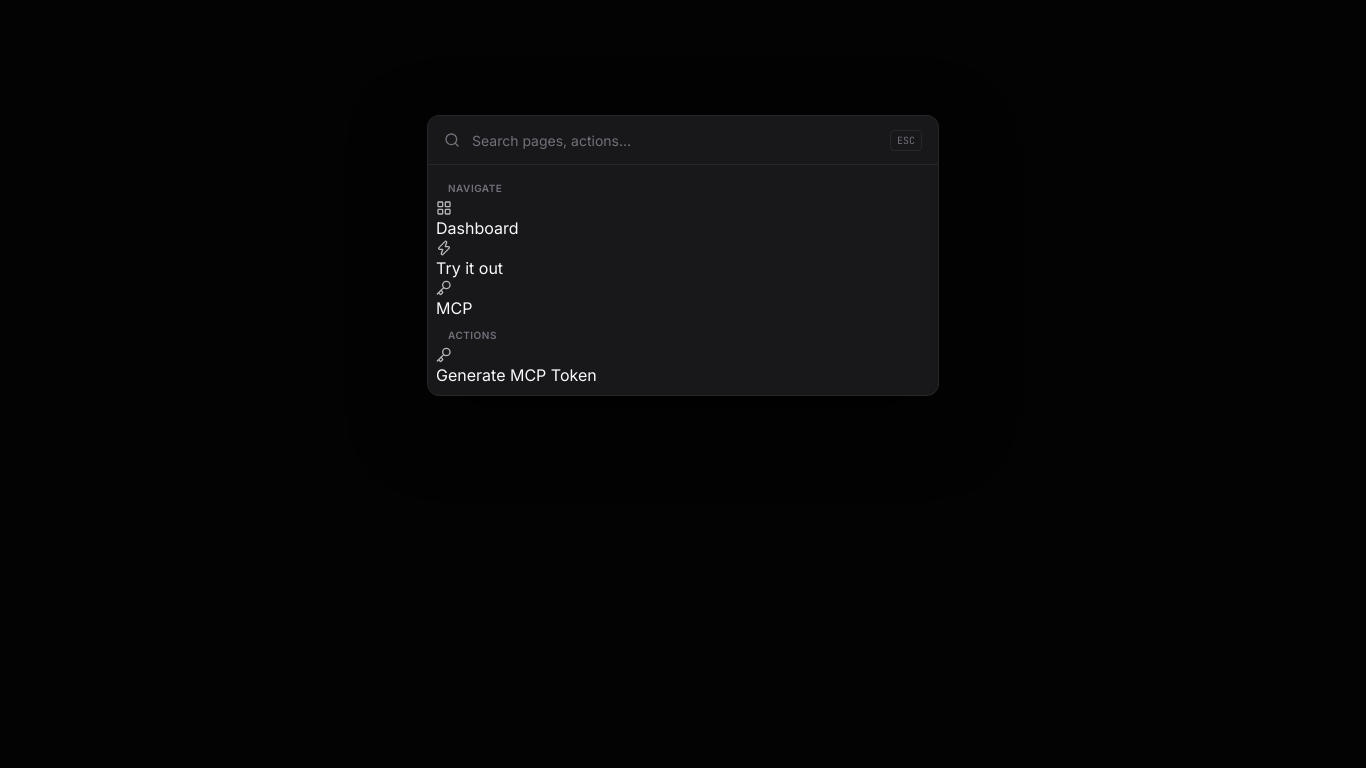
Test: CommandPalette › typing a query filters both groups by substring match on the label
The width and height of the screenshot is (1366, 768).
Type "dash" into the field with placeholder "Search pages, actions…".
click(675, 140); type("dash")  # box [472, 116, 878, 164]
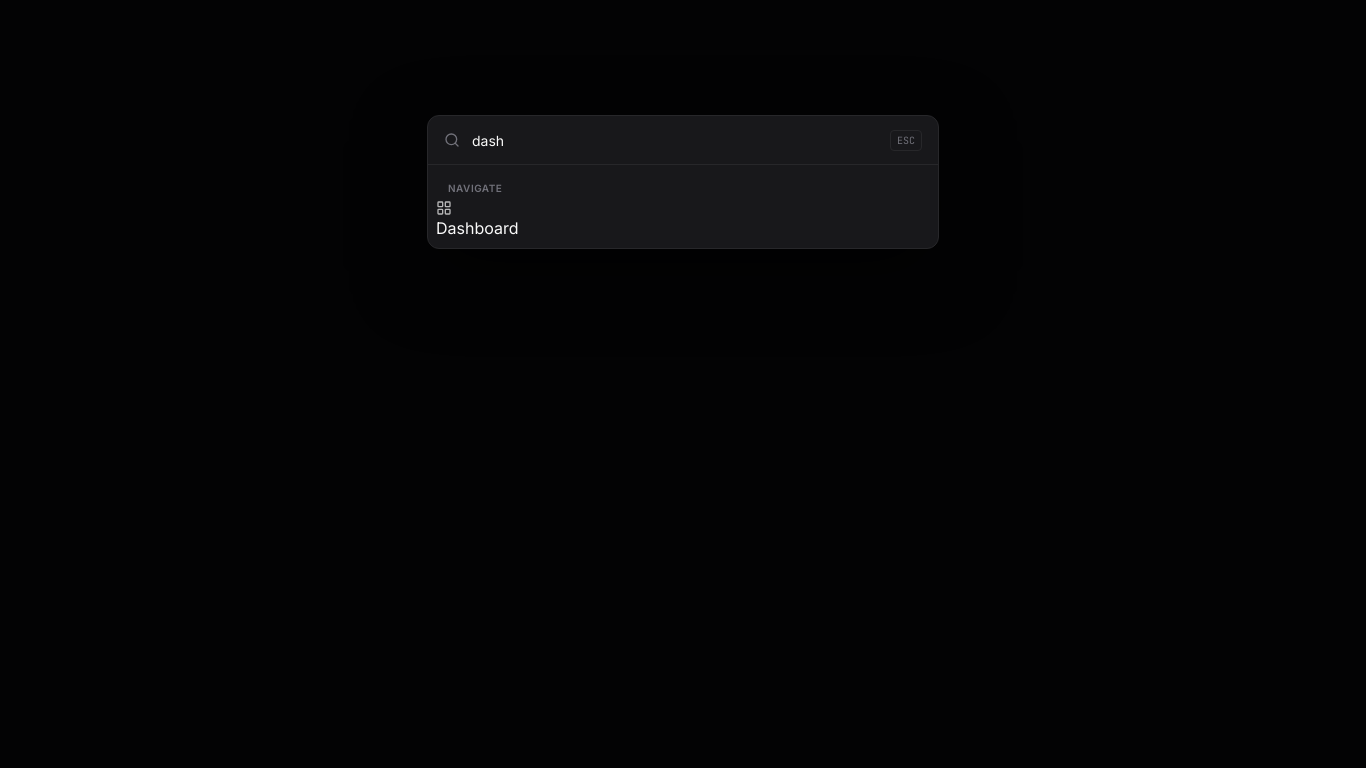
Expected: the button "Try it out" is gone
Expected: the button "MCP" is gone
Expected: the button "Generate MCP Token" is gone
